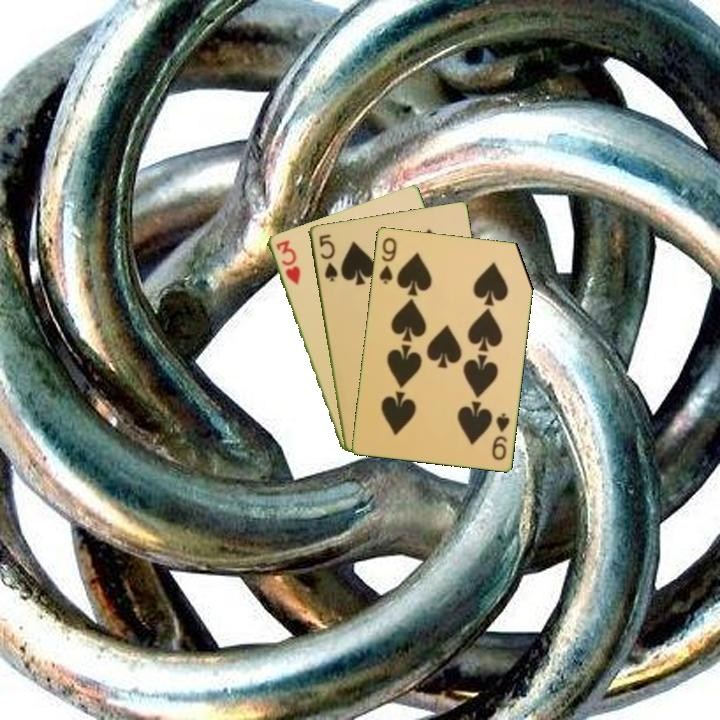3h: (272, 236, 303, 288)
5s: (315, 230, 340, 284)
9s: (488, 409, 512, 463), (375, 234, 399, 287)
